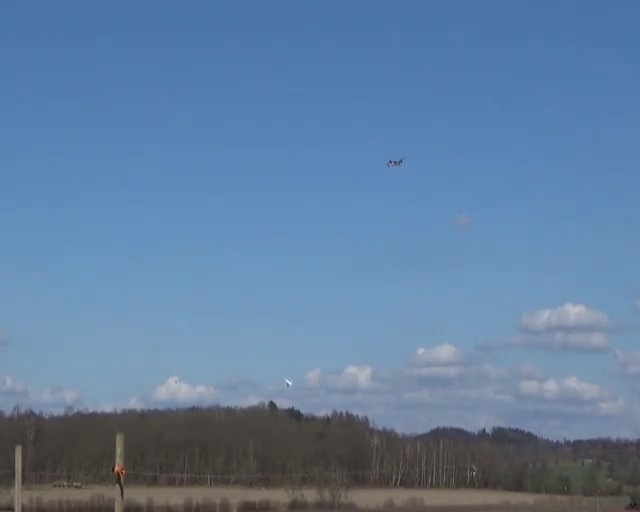DRONE: (387, 157, 404, 167)
